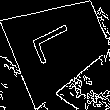L_NE: (33, 21, 85, 69)
